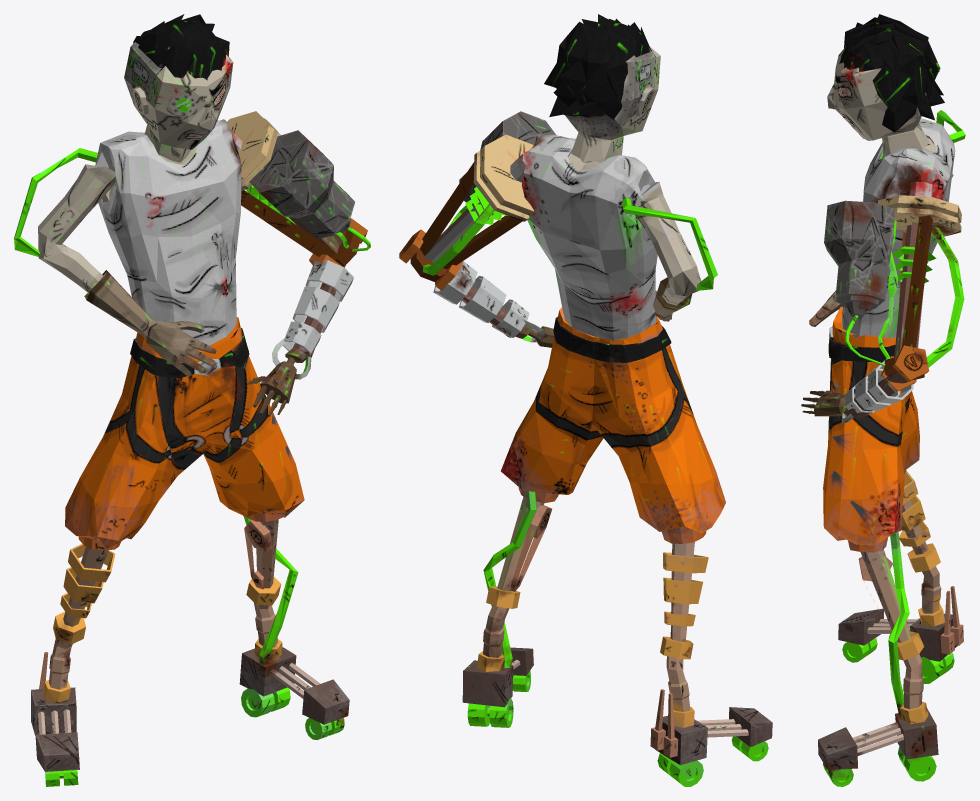
File: CyborgFINALAnimation_000050.obj
3 views of the same model, side by side, from view 1: azimuth 30°, elevation 25°; view 2: azimuth 150°, elevation 25°; view 3: azimuth 270°, elevation 25° (orthographic). The views are drawn at different scales.
Parts seen in each view (by area): view 1: CyborgMesh_Cube.002; view 2: CyborgMesh_Cube.002; view 3: CyborgMesh_Cube.002.
Boxes of the visible parts, <box> form: CyborgMesh_Cube.002: <box>14,14,370,786</box>; CyborgMesh_Cube.002: <box>399,14,772,786</box>; CyborgMesh_Cube.002: <box>801,14,965,786</box>.
Size of the model in its own units: 4.81 by 9.58 by 2.02.
